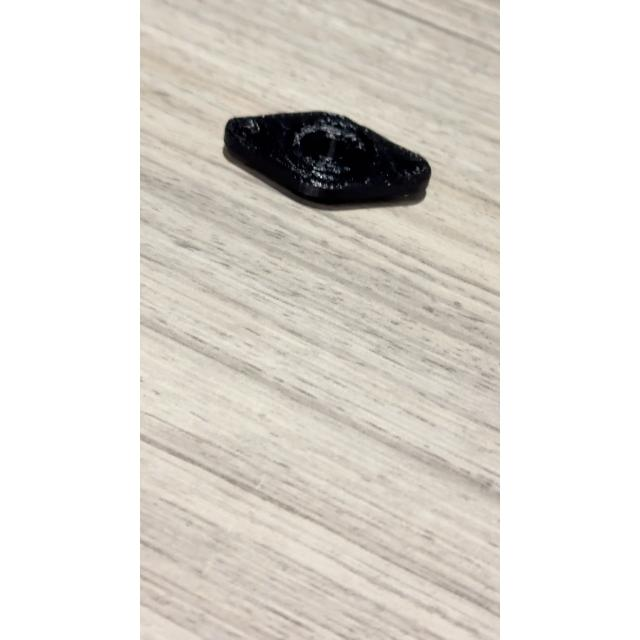Pieza_2: (218, 102, 436, 216)
